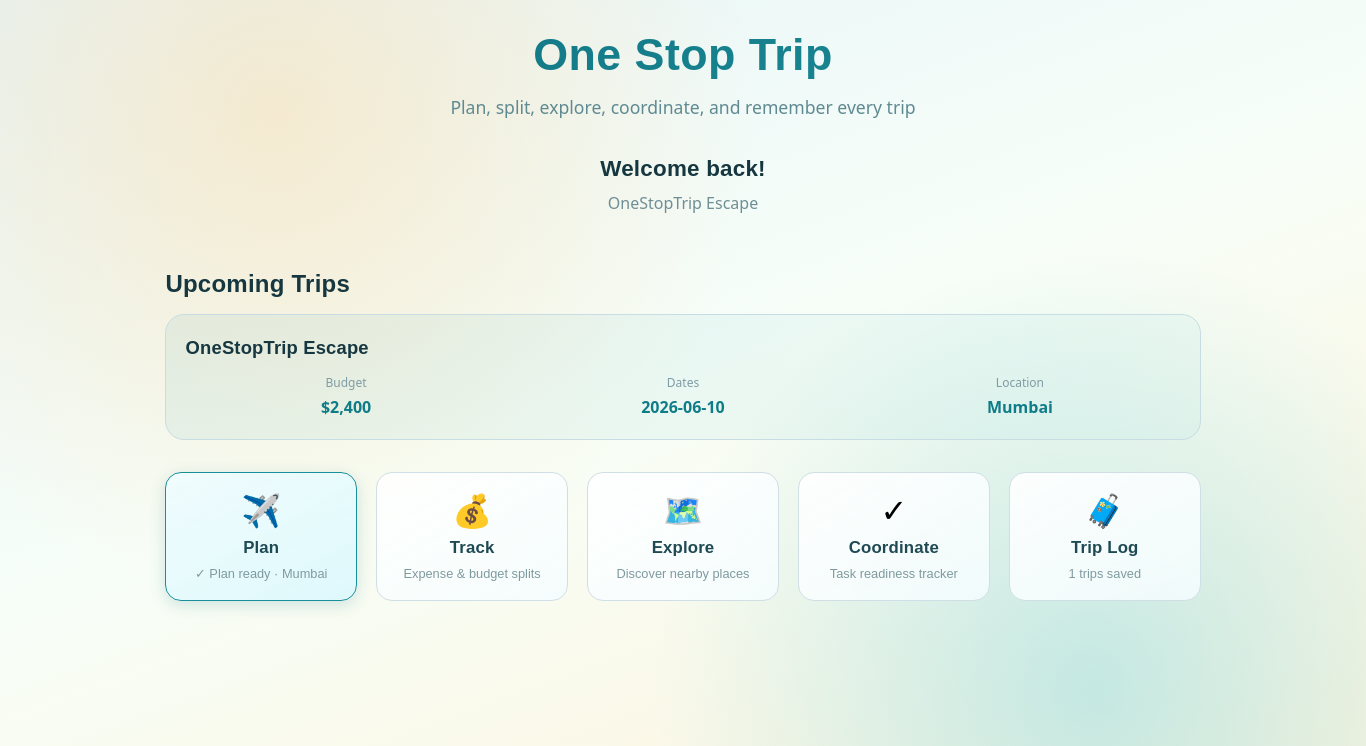
App integration › provides smooth CTA navigation from plan results to explore and track pages
The image size is (1366, 746).
Click the button "✈️ Plan ✓ Plan ready · Mumbai" at [261, 536], box [165,472,357,601]
(page scrolled)
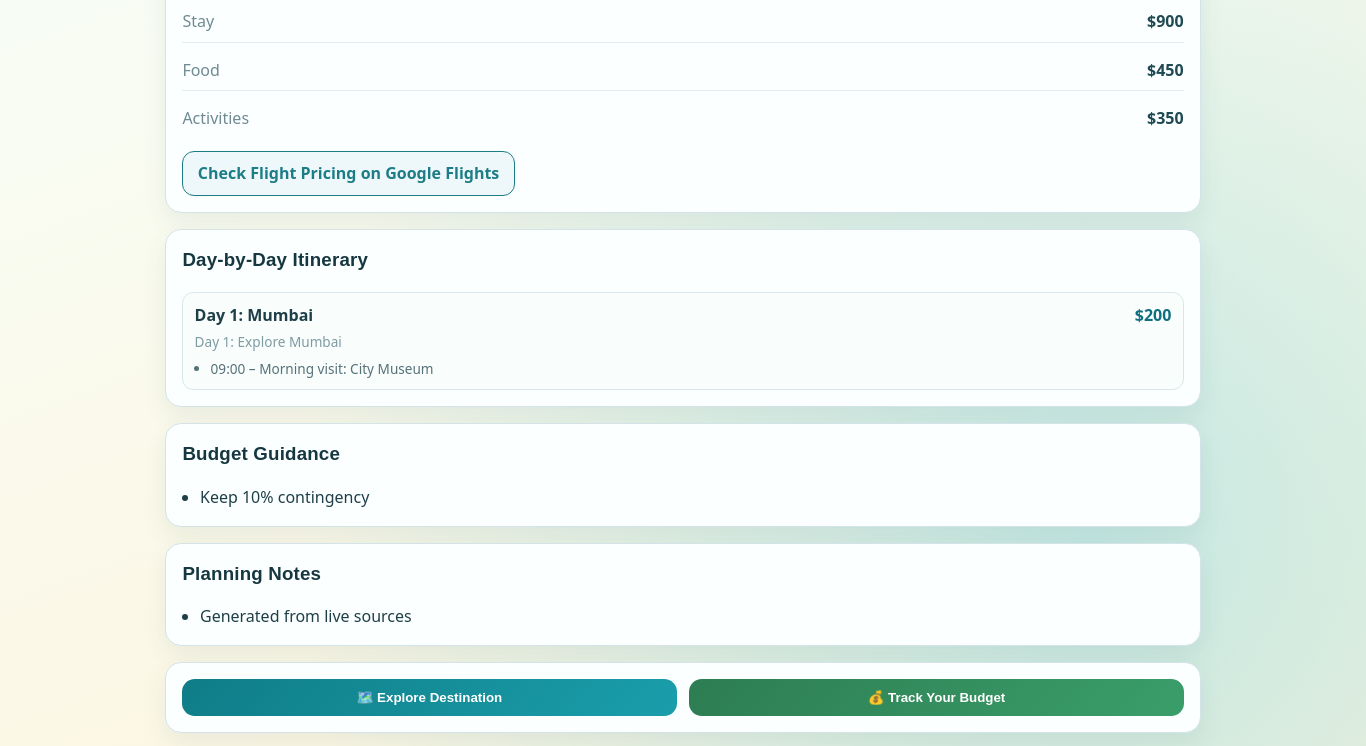
Click the button "🗺️ Explore Destination" at [430, 697], box [182,679,677,716]
(page scrolled)
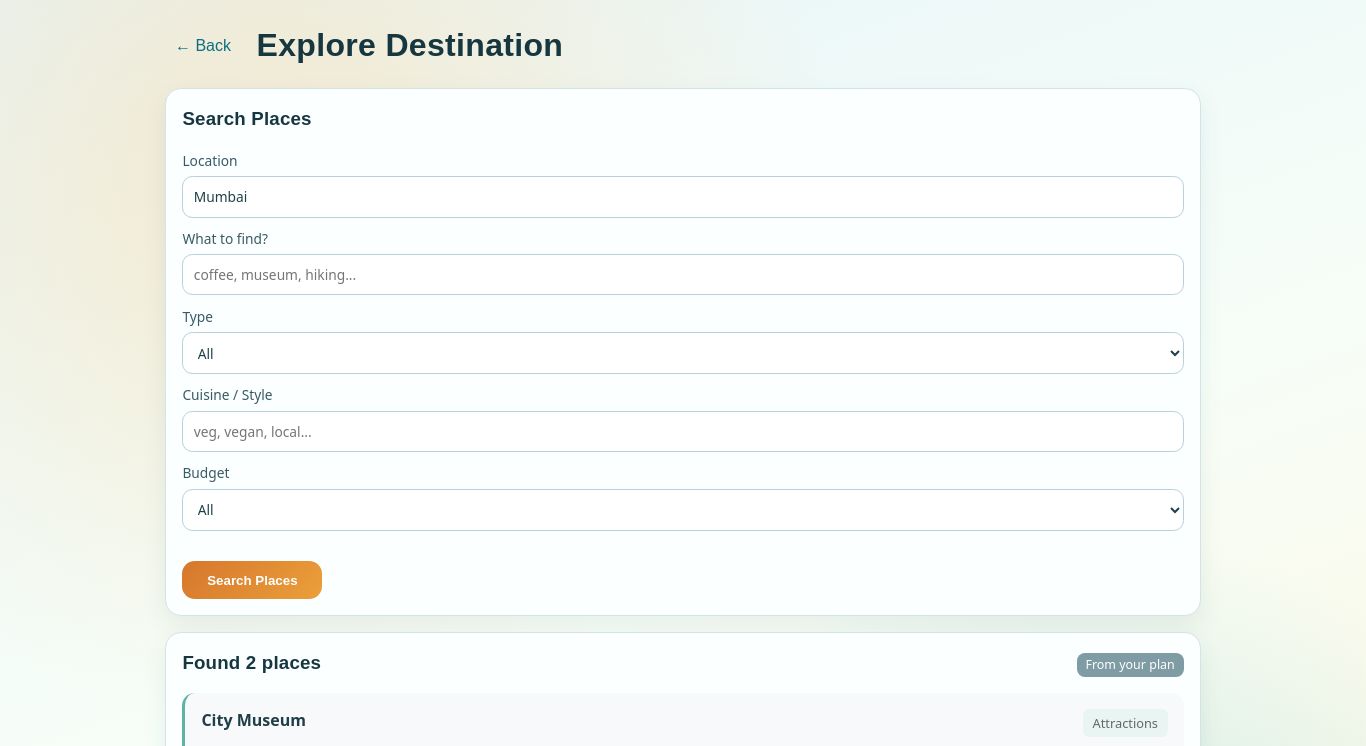
Result: the heading "Explore Destination" is shown at [257,22,563,69]
Click the button "← Back" at [203, 46], box [165,30,241,61]
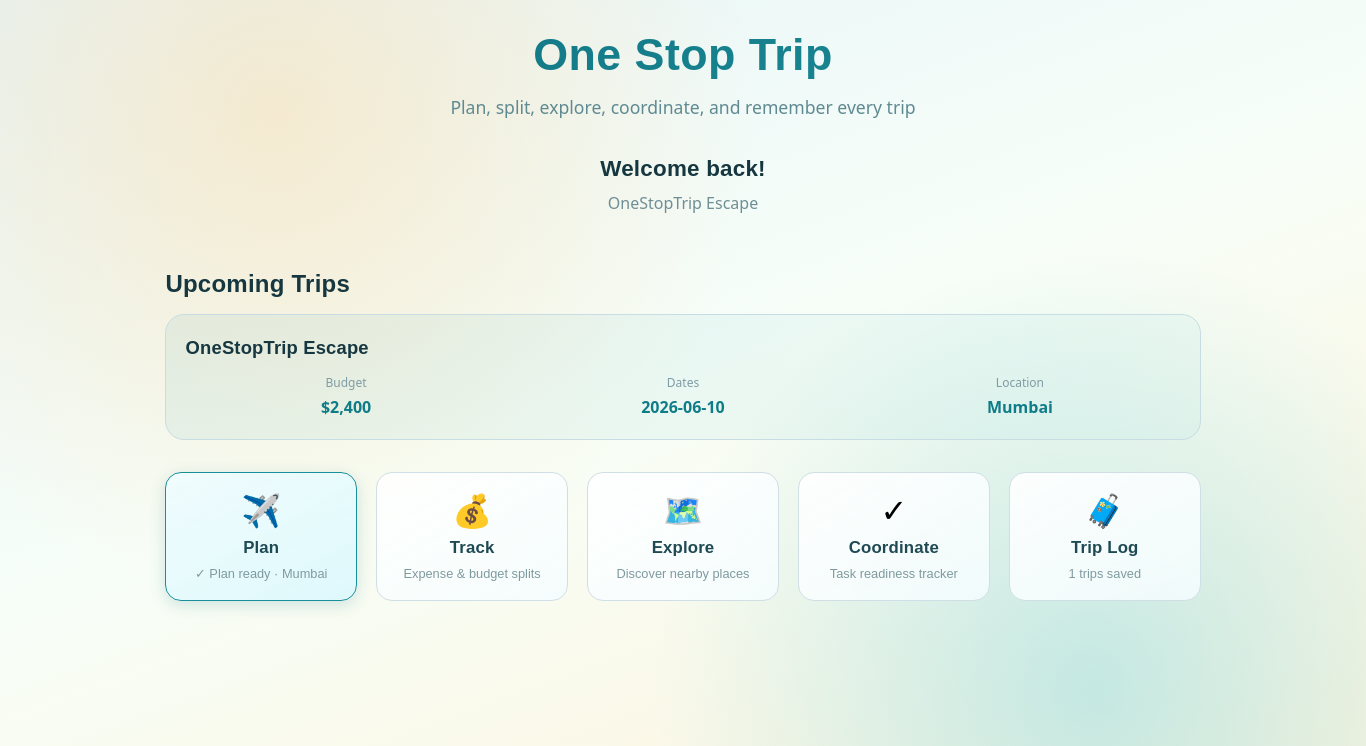
Click the button "✈️ Plan ✓ Plan ready · Mumbai" at [261, 536], box [165,472,357,601]
(page scrolled)
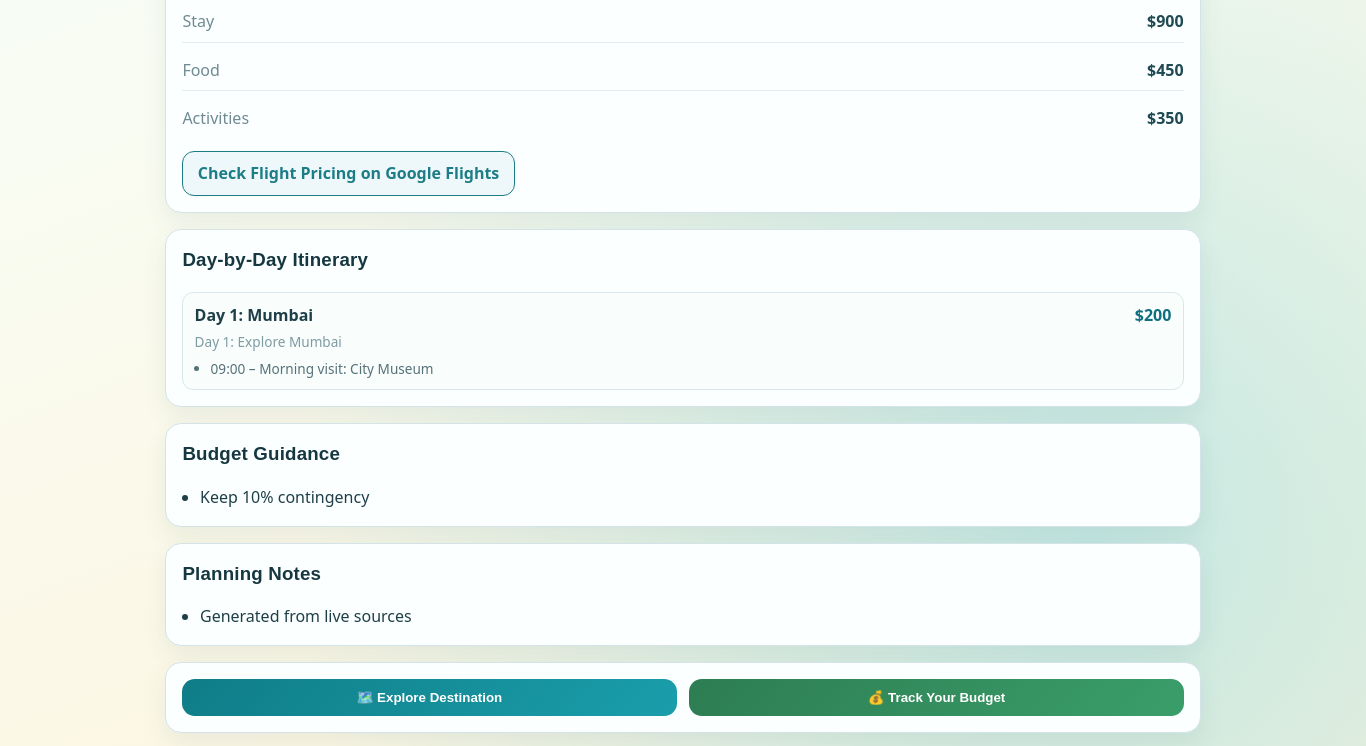
Click the button "💰 Track Your Budget" at [936, 697], box [689,679,1184,716]
(page scrolled)
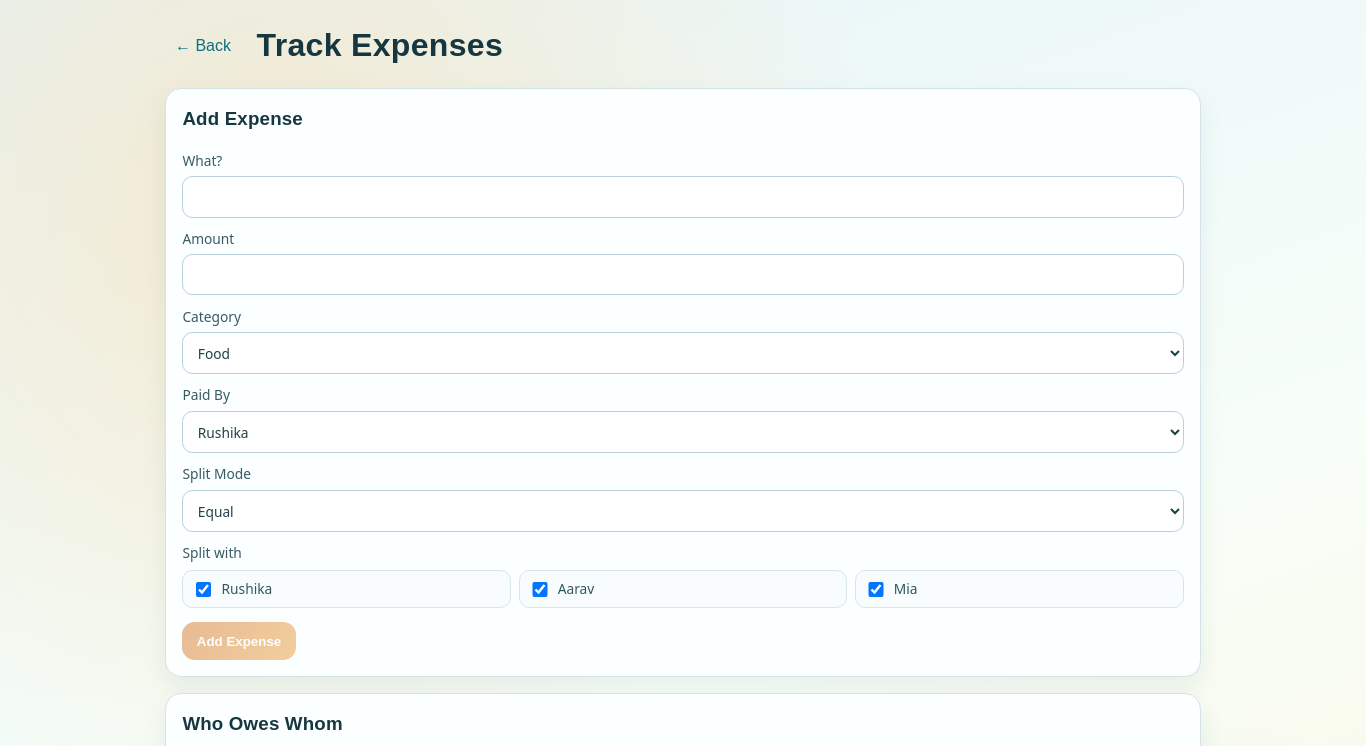
Result: the heading "Track Expenses" is shown at [257,22,503,69]
